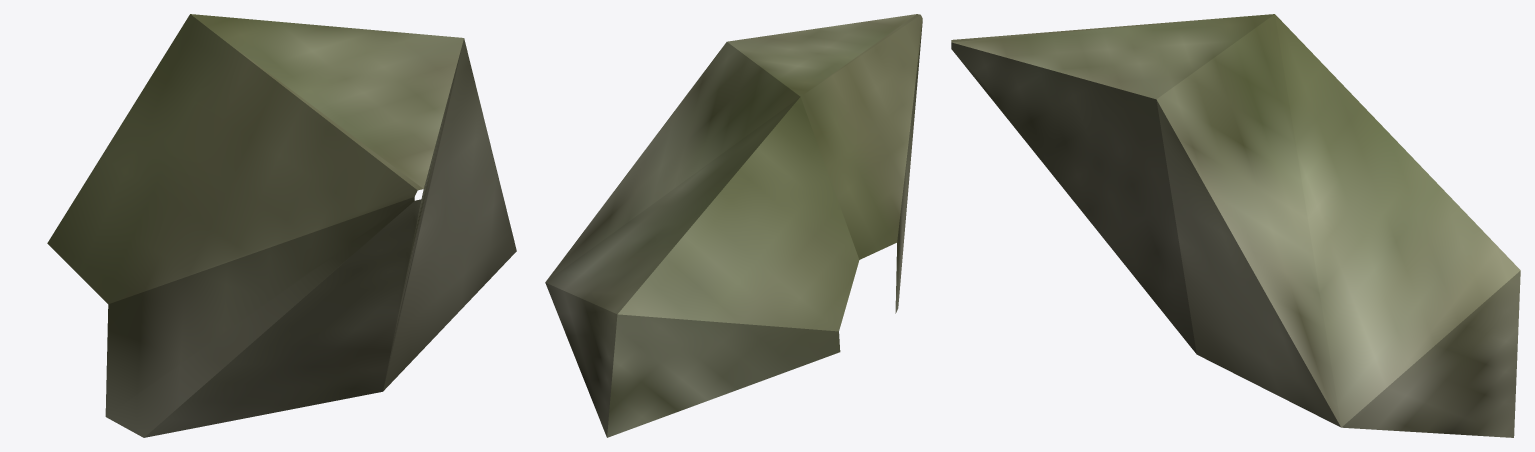
3 views of the same model, side by side, from view 1: azimuth 30°, elevation 25°; view 2: azimuth 150°, elevation 25°; view 3: azimuth 270°, elevation 25° (orthographic). The views are drawn at different scales.
Bounding box in the file's own units: 0.1369 × 0.1274 × 0.1801.
1 material, 1 textured.
